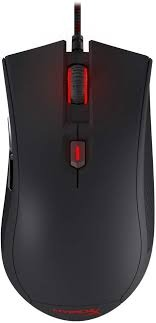mouse: (3, 1, 156, 323)
